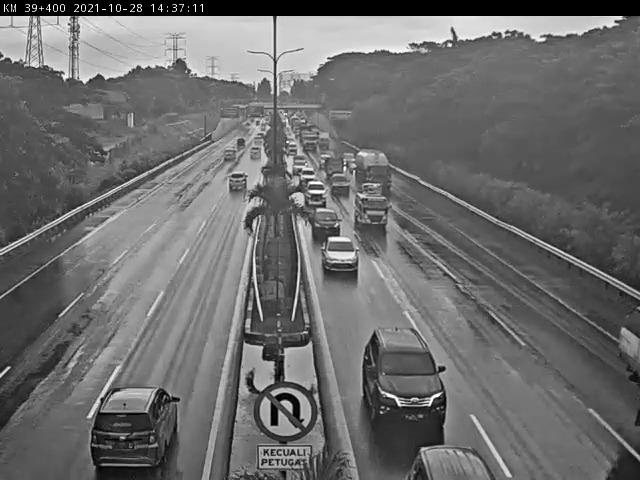big truck: (347, 146, 395, 199)
car: (355, 316, 450, 430), (85, 379, 183, 480), (320, 232, 363, 276), (308, 202, 341, 239), (223, 168, 252, 193), (302, 178, 326, 207), (326, 171, 352, 196), (296, 166, 316, 185), (218, 147, 238, 163), (247, 147, 263, 164), (291, 159, 309, 174), (235, 135, 248, 150), (253, 135, 265, 149)
small truck: (353, 187, 391, 230)
